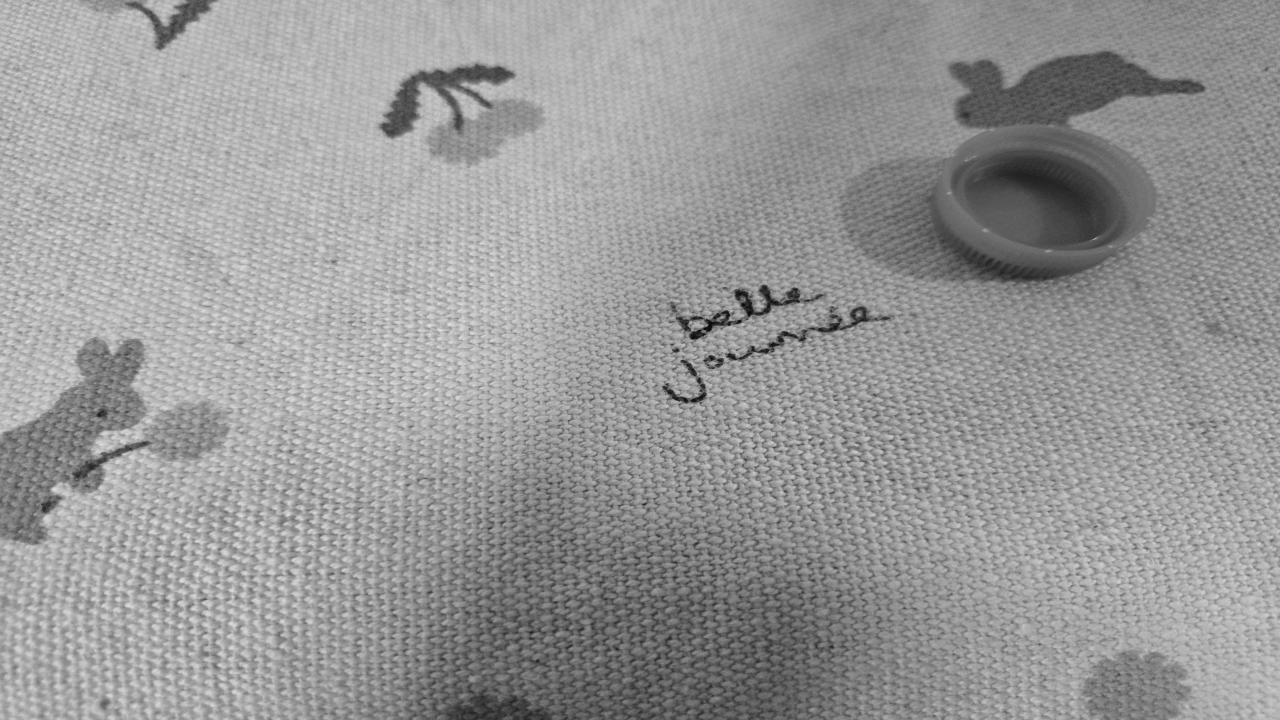bottle_cap: (924, 120, 1167, 282)
